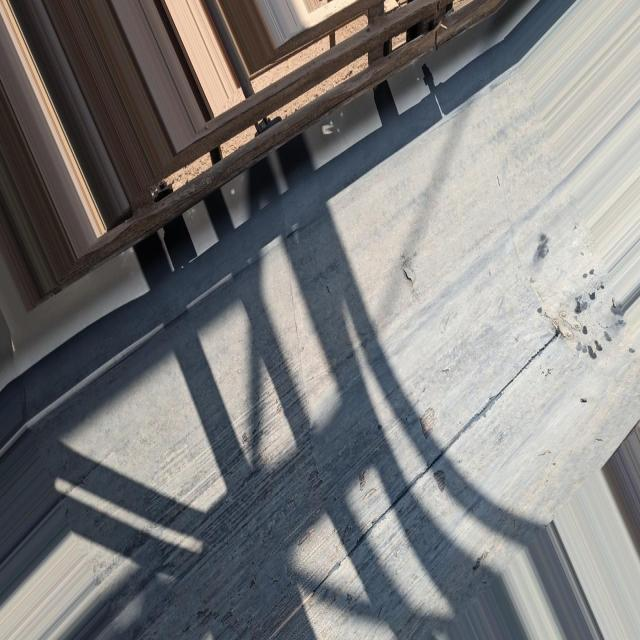Tear: (310, 325, 559, 601), (415, 405, 439, 441), (399, 265, 414, 284)
patch work: (550, 305, 582, 342)
